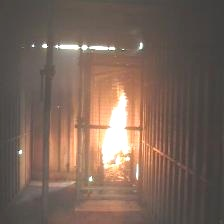fire: (100, 84, 143, 178)
